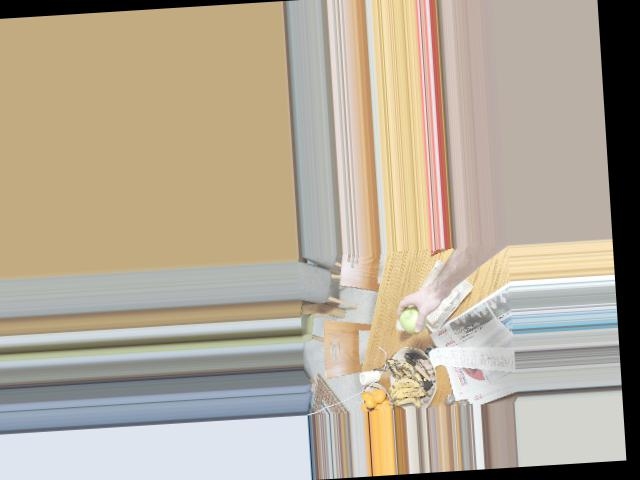apple: (397, 304, 429, 334)
